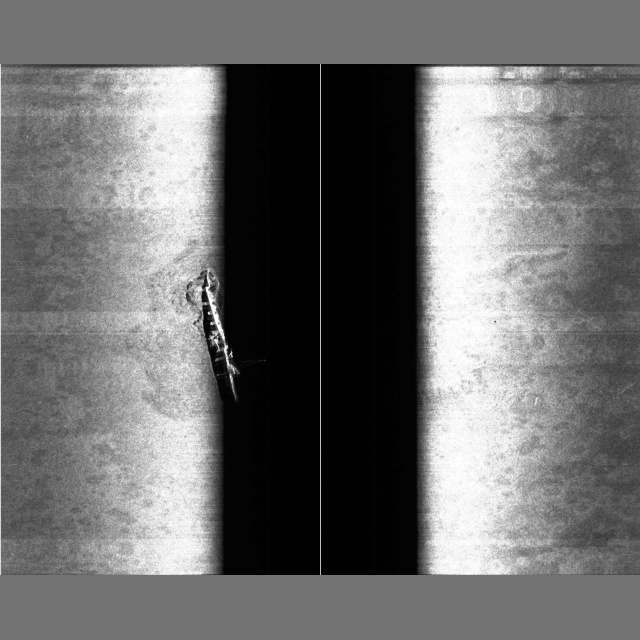Shipwreck: (201, 273, 266, 402)
